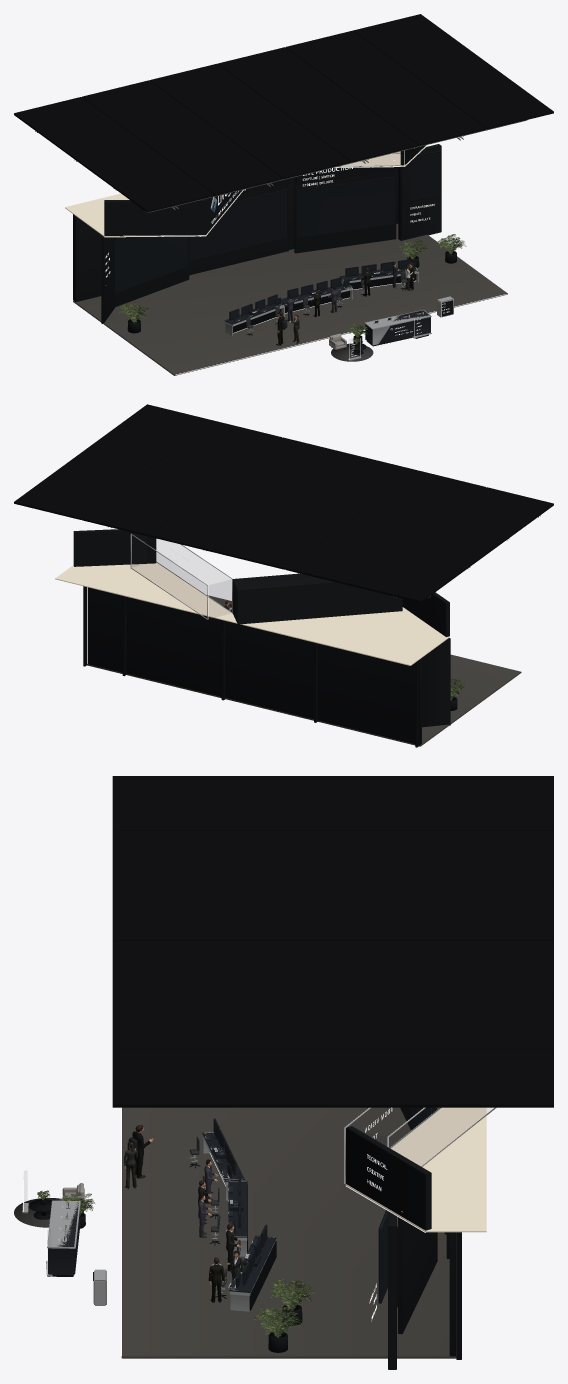
File: technical-showcase.glb
3 views of the same model, one above another, from view 1: azimuth 30°, elevation 25°; view 2: azimuth 150°, elevation 25°; view 3: azimuth 270°, elevation 25° (orthographic). The views are drawn at different scales.
Parts seen in each view (by area): view 1: Reception | black acoustic roof, Technical | warm charcoal honed pathway stone, Technical | graphite equipment housing, Technical | charcoal architectural panel, Technical | rich black powdercoat, Technical | warm pearl canopy diffuser, Technical | brushed champagne stainless, Reception | olive foliage, Technical | rough cast black metal counter, Technical | concealed warm white LED, Reception | porcelain brand lettering, Technical | overhead truss steel (+1 smaller); view 2: Reception | black acoustic roof, Technical | charcoal architectural panel, Technical | warm pearl canopy diffuser, Technical | warm charcoal honed pathway stone, Technical | rich black powdercoat, Technical | lightly frosted clear acrylic, Technical | brushed champagne stainless; view 3: Reception | black acoustic roof, Technical | warm charcoal honed pathway stone, Technical | charcoal architectural panel, Technical | warm pearl canopy diffuser, Technical | graphite equipment housing, Technical | brushed champagne stainless, Technical | rich black powdercoat, Reception | olive foliage, Technical | rough cast black metal counter, Rocketbox | Business_Male_01 | body.
Boxes of the visible parts, x1,y1,x2,y2 form: Reception | black acoustic roof: (14, 14, 553, 212); Technical | warm charcoal honed pathway stone: (73, 223, 507, 375); Technical | graphite equipment housing: (115, 151, 440, 324); Technical | charcoal architectural panel: (74, 144, 453, 323); Technical | rich black powdercoat: (73, 151, 456, 355); Technical | warm pearl canopy diffuser: (65, 145, 427, 236); Technical | brushed champagne stainless: (225, 151, 453, 360); Reception | olive foliage: (119, 234, 466, 343); Technical | rough cast black metal counter: (365, 310, 430, 345); Technical | concealed warm white LED: (104, 145, 506, 374); Reception | porcelain brand lettering: (105, 148, 449, 356); Technical | overhead truss steel: (35, 120, 527, 213); Reception | black acoustic roof: (14, 404, 553, 602); Technical | charcoal architectural panel: (73, 529, 450, 745); Technical | warm pearl canopy diffuser: (55, 562, 449, 665); Technical | warm charcoal honed pathway stone: (87, 595, 521, 746); Technical | rich black powdercoat: (83, 586, 457, 747); Technical | lightly frosted clear acrylic: (132, 536, 231, 611); Technical | brushed champagne stainless: (130, 534, 232, 619); Reception | black acoustic roof: (112, 776, 553, 1107); Technical | warm charcoal honed pathway stone: (121, 1107, 456, 1358); Technical | charcoal architectural panel: (93, 1107, 455, 1369); Technical | warm pearl canopy diffuser: (345, 1107, 486, 1232); Technical | graphite equipment housing: (64, 1107, 446, 1307); Technical | brushed champagne stainless: (22, 1107, 496, 1311); Technical | rich black powdercoat: (29, 1107, 461, 1359); Reception | olive foliage: (37, 1190, 315, 1337); Technical | rough cast black metal counter: (48, 1202, 79, 1275); Rocketbox | Business_Male_01 | body: (198, 1180, 241, 1302).
Size of the model in its own units: 29.95 by 12.29 by 20.8.
48 materials, 14 textured.
